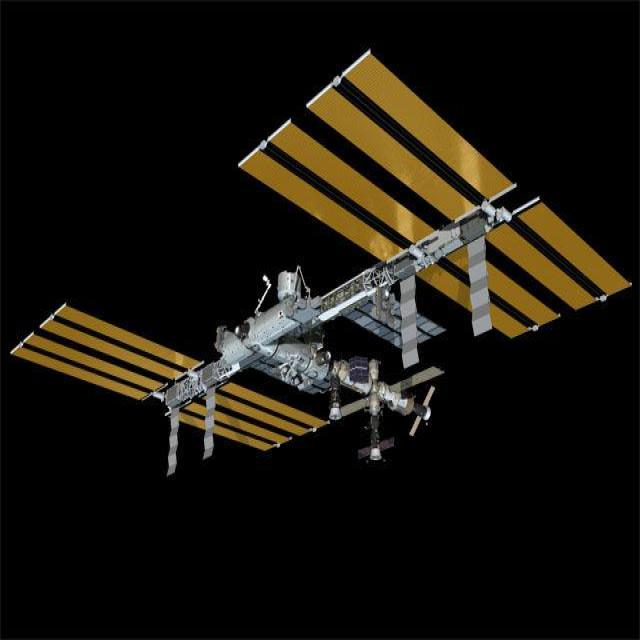medium_debris: (11, 52, 630, 474)
